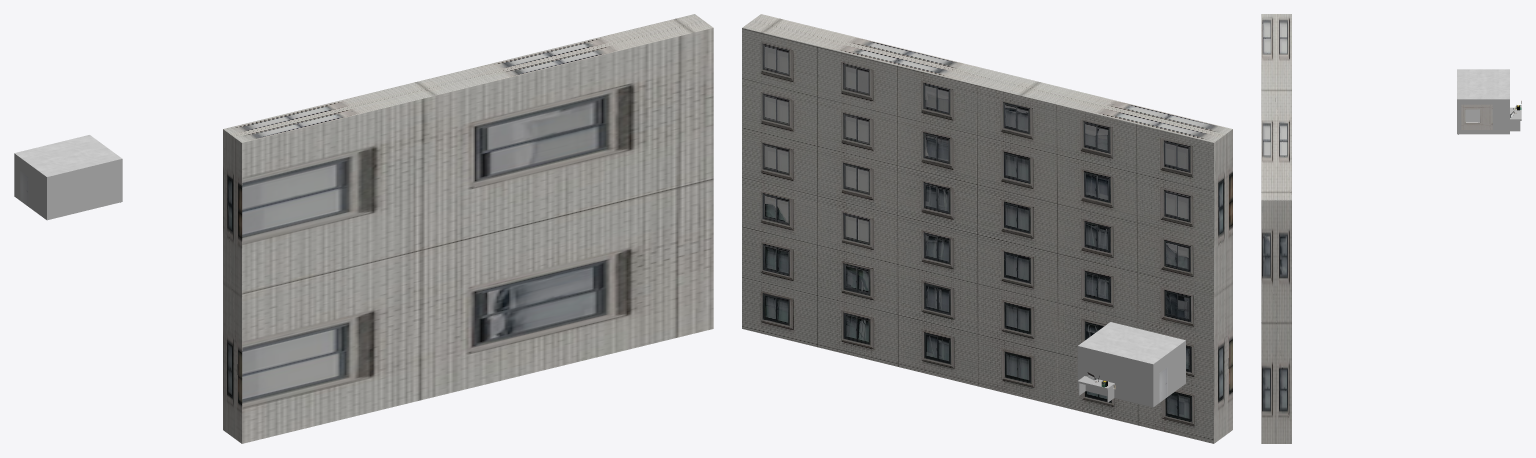
File: main_model.fbx
3 views of the same model, side by side, from view 1: azimuth 30°, elevation 25°; view 2: azimuth 150°, elevation 25°; view 3: azimuth 270°, elevation 25° (orthographic). The views are drawn at different scales.
Parts seen in each view (by area): view 1: Cube, Plane; view 2: Cube, Plane; view 3: Cube, Plane.
Part boxes in pixels (left/top/right/bottom): Cube: left=223, top=14, right=713, bottom=443; Plane: left=14, top=135, right=122, bottom=220; Cube: left=742, top=14, right=1232, bottom=443; Plane: left=1077, top=322, right=1185, bottom=407; Cube: left=1261, top=14, right=1291, bottom=443; Plane: left=1457, top=69, right=1509, bottom=134.
Size of the model in its own units: 2223 by 1171 by 1134.
